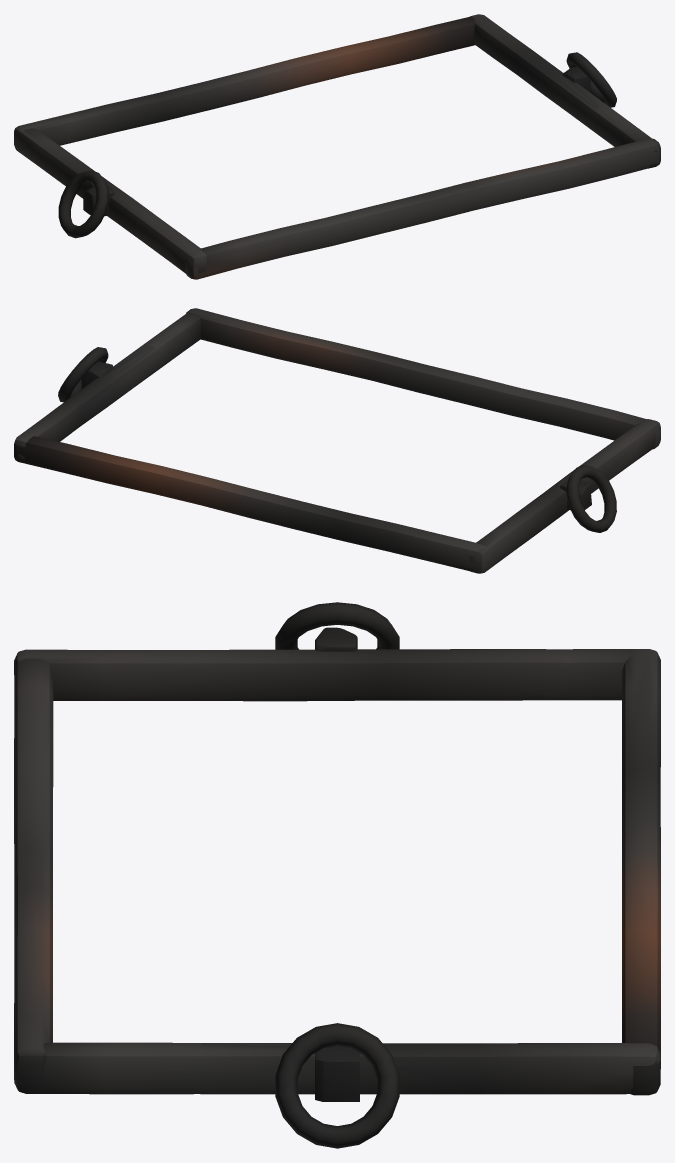
The model's file is ember_ash_pan_lod1.glb.
The picture shows the model from 3 angles, top to bottom: view 1: azimuth 30°, elevation 25°; view 2: azimuth 150°, elevation 25°; view 3: azimuth 270°, elevation 25°; orthographic projection. The views are drawn at different scales.
Parts seen in each view (by area): view 1: ember_ash_pan.001; view 2: ember_ash_pan.001; view 3: ember_ash_pan.001.
Part boxes in pixels (<box>): ember_ash_pan.001: <box>14,14,660,279</box>; ember_ash_pan.001: <box>14,308,660,573</box>; ember_ash_pan.001: <box>14,602,660,1148</box>.
Size of the model in its own units: 34.7 by 3.38 by 20.01.
